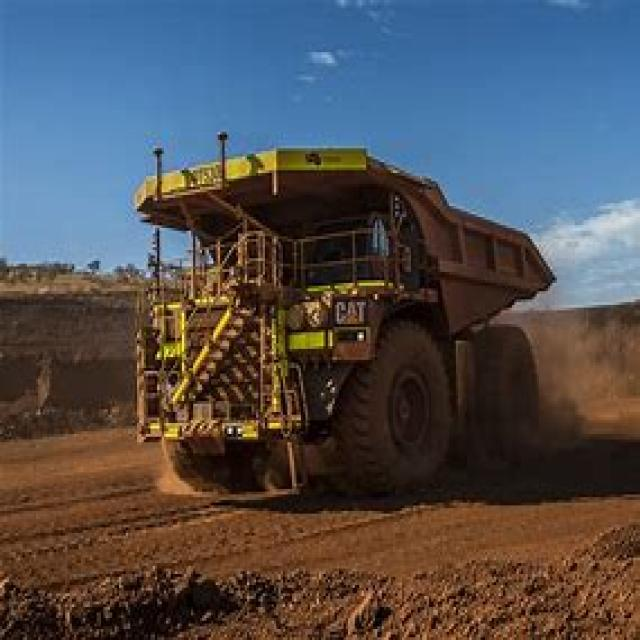dump_truck: (128, 135, 579, 502)
